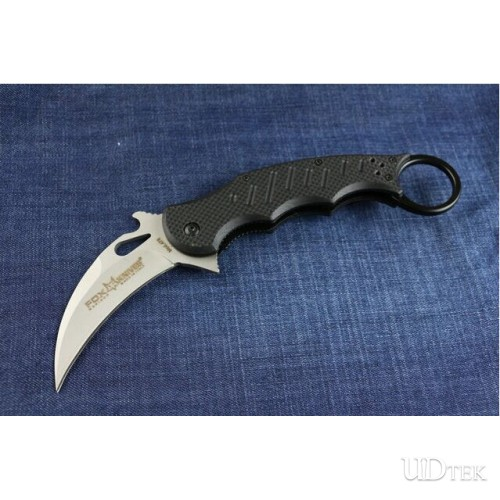knief: (65, 153, 463, 394)
